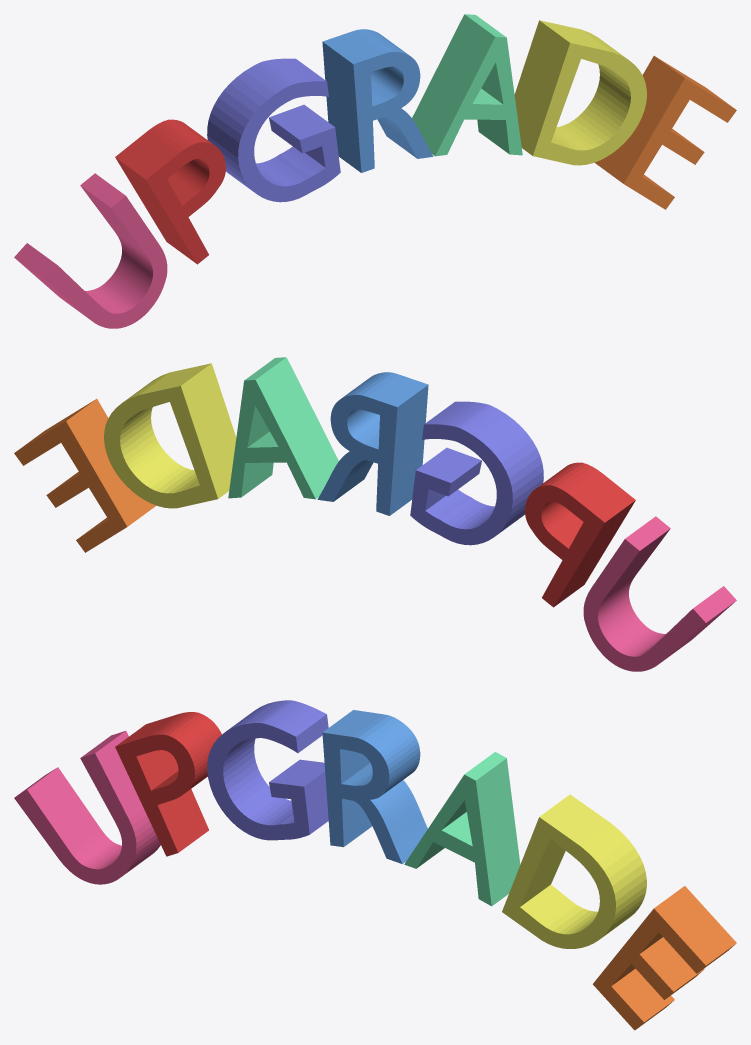
The model's file is upgradeletter.fbx.
The picture shows the model from 3 angles, top to bottom: view 1: azimuth 30°, elevation 25°; view 2: azimuth 150°, elevation 25°; view 3: azimuth 330°, elevation 25°; orthographic projection.
Parts seen in each view (by area): view 1: d, g, r, a, u, p, e; view 2: d, g, r, a, u, p, e; view 3: d, g, r, u, e, p, a.
Boxes of the visible parts, x1,y1,x2,y2 form: d: (514,20,646,165); g: (207,58,340,202); r: (322,29,433,172); a: (412,14,522,156); u: (14,173,167,328); p: (115,119,225,264); e: (595,56,736,209); d: (104,363,236,508); g: (410,401,543,545); r: (317,372,428,515); a: (228,357,338,499); u: (583,516,736,671); p: (525,462,635,607); e: (14,399,155,552); d: (502,794,646,948); g: (207,700,328,840); r: (322,710,427,863); u: (14,730,160,884); e: (593,886,736,1030); p: (115,712,221,856); a: (404,752,520,906).
Bounding box in the file's own units: 497 × 155 × 38.57.
